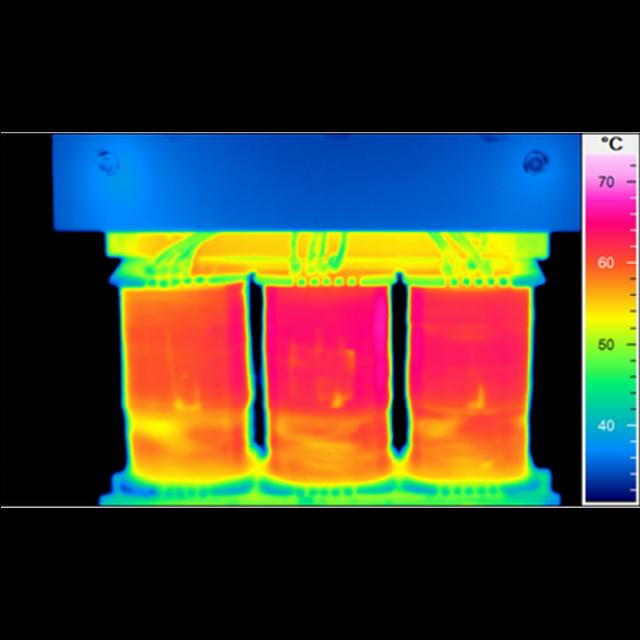loose_joint_red: (291, 276, 297, 287), (305, 275, 310, 287), (482, 275, 487, 285), (445, 275, 449, 287), (318, 274, 322, 285), (356, 274, 360, 285), (458, 275, 462, 286), (343, 274, 347, 284), (470, 276, 474, 286), (494, 276, 498, 286), (178, 276, 182, 286), (330, 273, 333, 285), (190, 276, 194, 285), (204, 275, 208, 284)
loose_joint_yellow: (166, 276, 171, 287), (507, 276, 511, 287), (155, 278, 159, 287)
